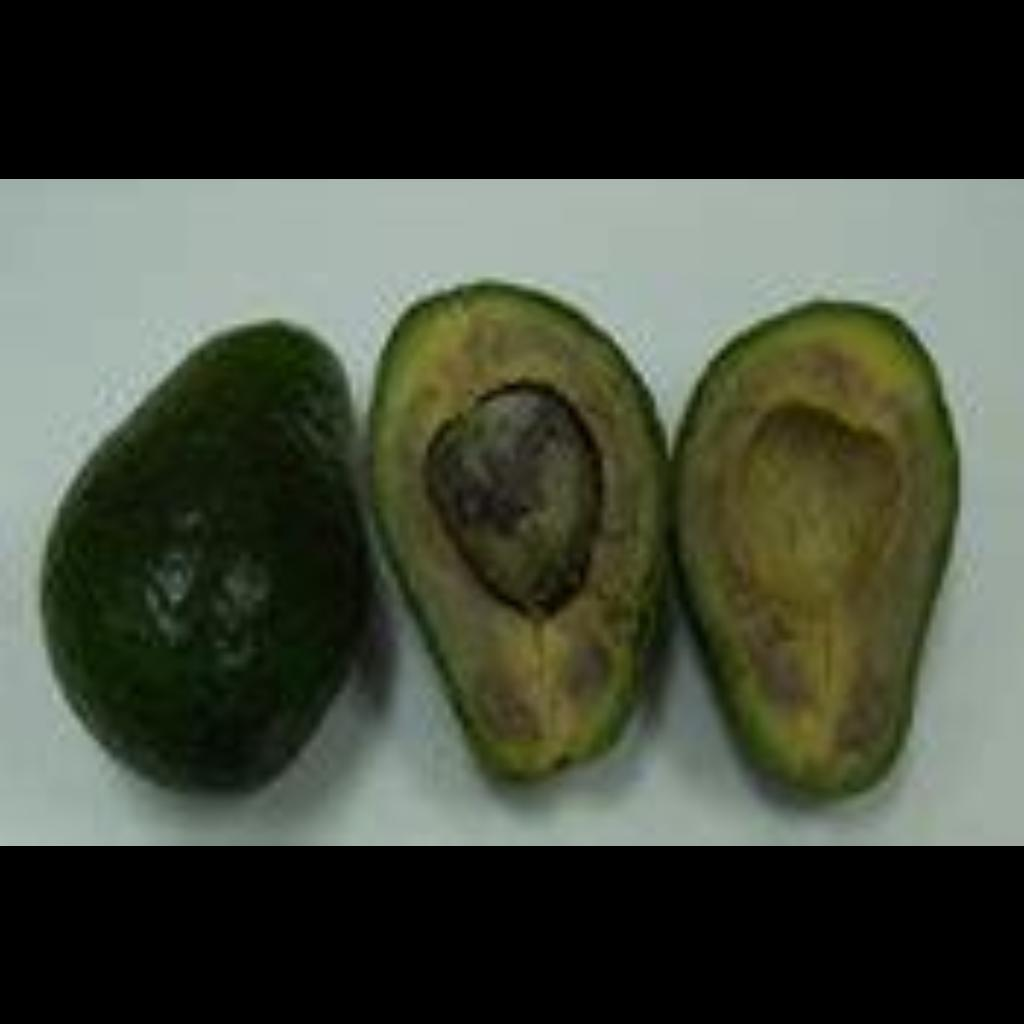Anthracnose: (324, 268, 664, 778), (682, 266, 950, 810), (102, 318, 320, 746)
